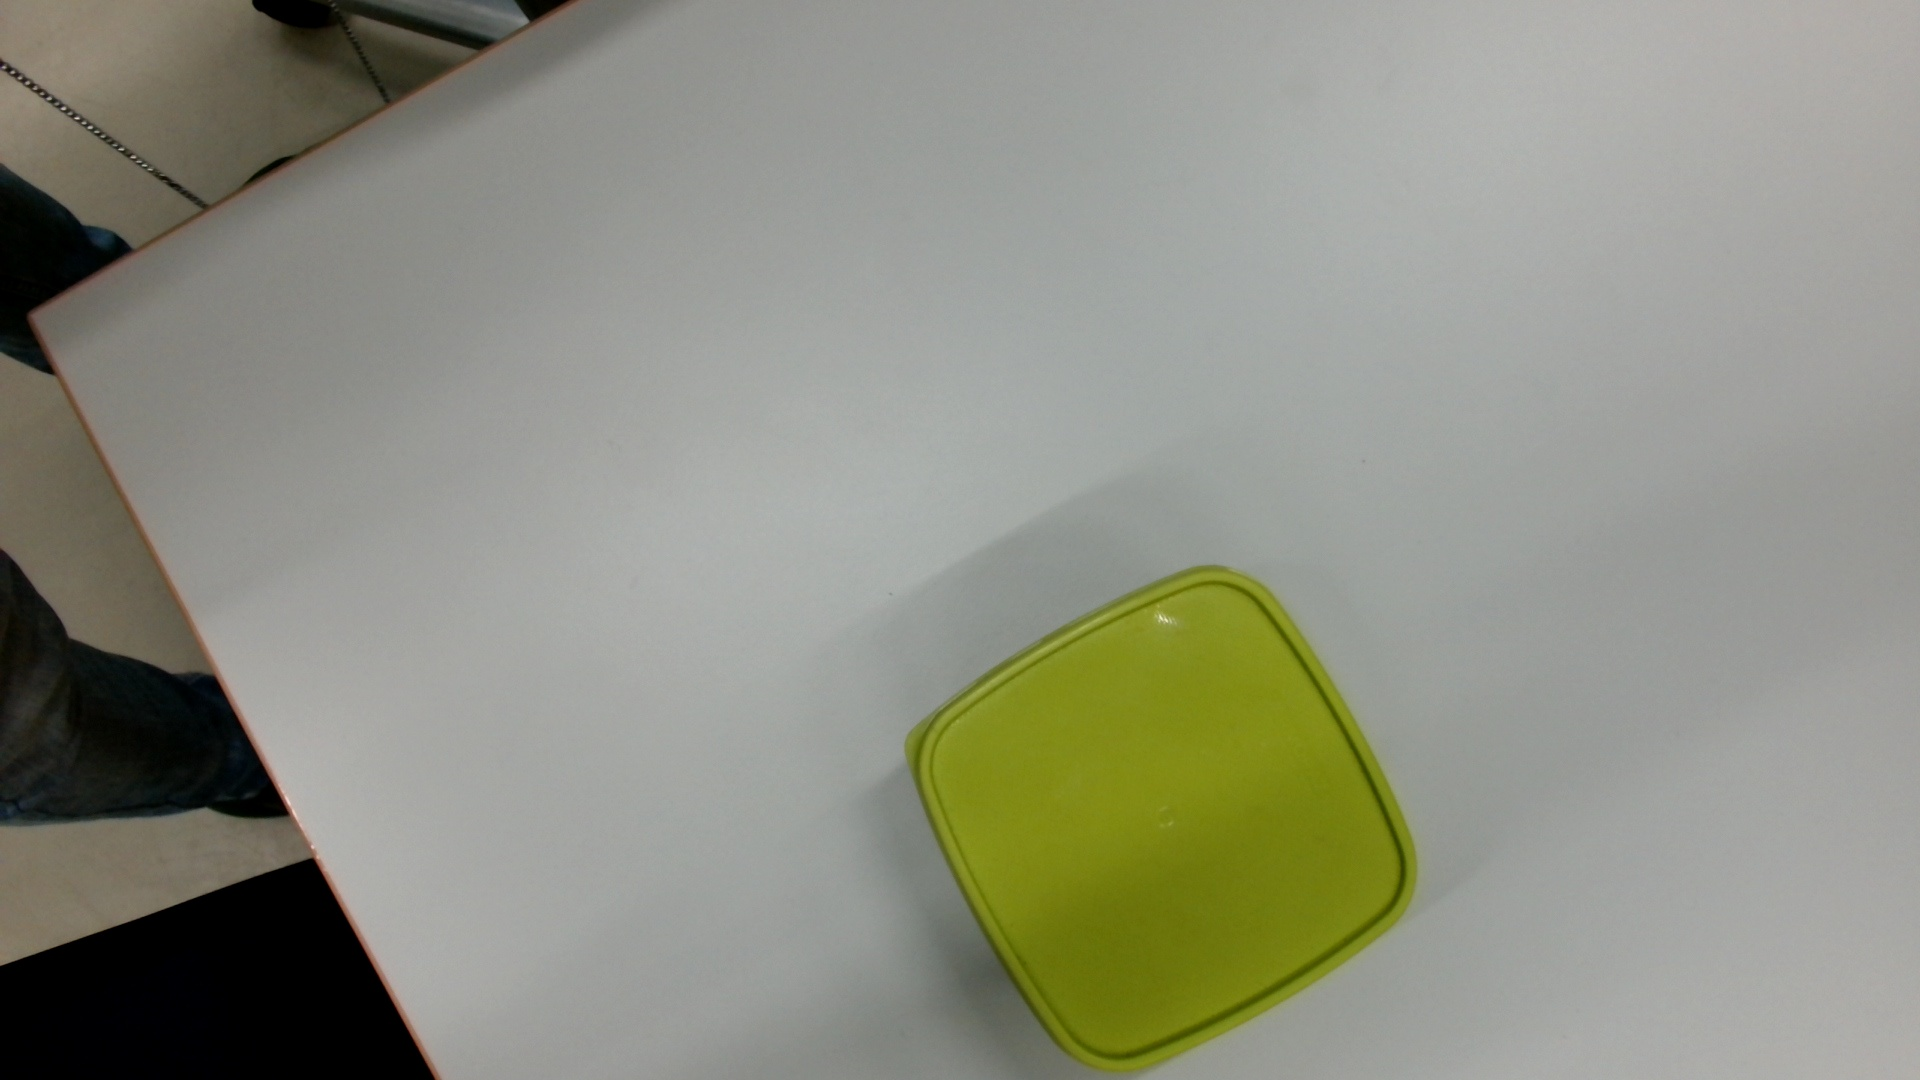Box: (898, 560, 1433, 1080)
